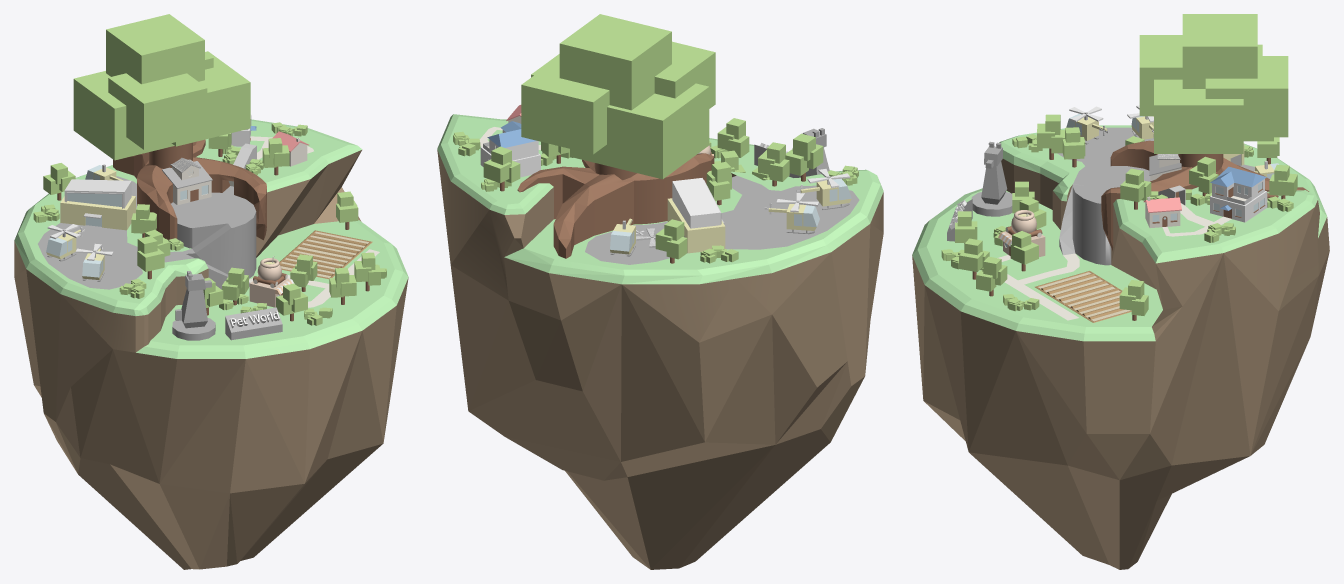
3 views of the same model, side by side, from view 1: azimuth 30°, elevation 25°; view 2: azimuth 150°, elevation 25°; view 3: azimuth 270°, elevation 25° (orthographic). The views are drawn at different scales.
Visible parts, largest first — view 1: group_0, group_0.001, group_0.005, group_0.003, group_6, group_0.002, group_3, group_5, group_0.007, group_4, group_24, group_79 (+19 smaller); view 2: group_0, group_0.003, group_0.002, group_5, group_3, group_0.005, group_2, group_0.007, group_6, group_24.001, group_24, group_29 (+7 smaller); view 3: group_0, group_0.001, group_0.007, group_4, group_0.005, group_3, group_2, group_0.002, group_0.003, group_6, group_0.012, group_58 (+17 smaller).
Part boxes in pixels (box(x1,y1,x2,y2)): group_0: box(14, 150, 408, 569); group_0.001: box(136, 220, 408, 358); group_0.005: box(38, 176, 256, 289); group_0.003: box(14, 165, 208, 316); group_6: box(108, 73, 207, 149); group_0.002: box(113, 139, 266, 240); group_3: box(106, 14, 204, 84); group_5: box(73, 71, 174, 160); group_0.007: box(196, 119, 361, 192); group_4: box(171, 51, 250, 146); group_24: box(60, 196, 135, 230); group_79: box(225, 307, 282, 340); group_0: box(437, 150, 883, 569); group_0.003: box(504, 169, 883, 284); group_0.002: box(517, 153, 714, 258); group_5: box(570, 83, 709, 179); group_3: box(559, 14, 671, 110); group_0.005: box(585, 152, 859, 264); group_2: box(521, 57, 609, 154); group_0.007: box(437, 114, 585, 214); group_6: box(654, 41, 715, 108); group_24.001: box(672, 178, 720, 228); group_24: box(667, 198, 725, 253); group_29: box(785, 133, 823, 175); group_0: box(912, 159, 1329, 569); group_0.001: box(912, 188, 1162, 341); group_0.007: box(1113, 187, 1317, 263); group_4: box(1154, 79, 1243, 153); group_0.005: box(1057, 127, 1254, 265); group_3: box(1182, 14, 1257, 88); group_2: box(1205, 56, 1288, 137); group_0.002: box(1101, 140, 1308, 251); group_0.003: box(999, 125, 1327, 237); group_6: box(1139, 35, 1182, 116); group_0.012: box(997, 253, 1079, 320); group_58: box(1035, 271, 1118, 304).
Bounding box in the file's own units: 78.78 × 112 × 80.49.
